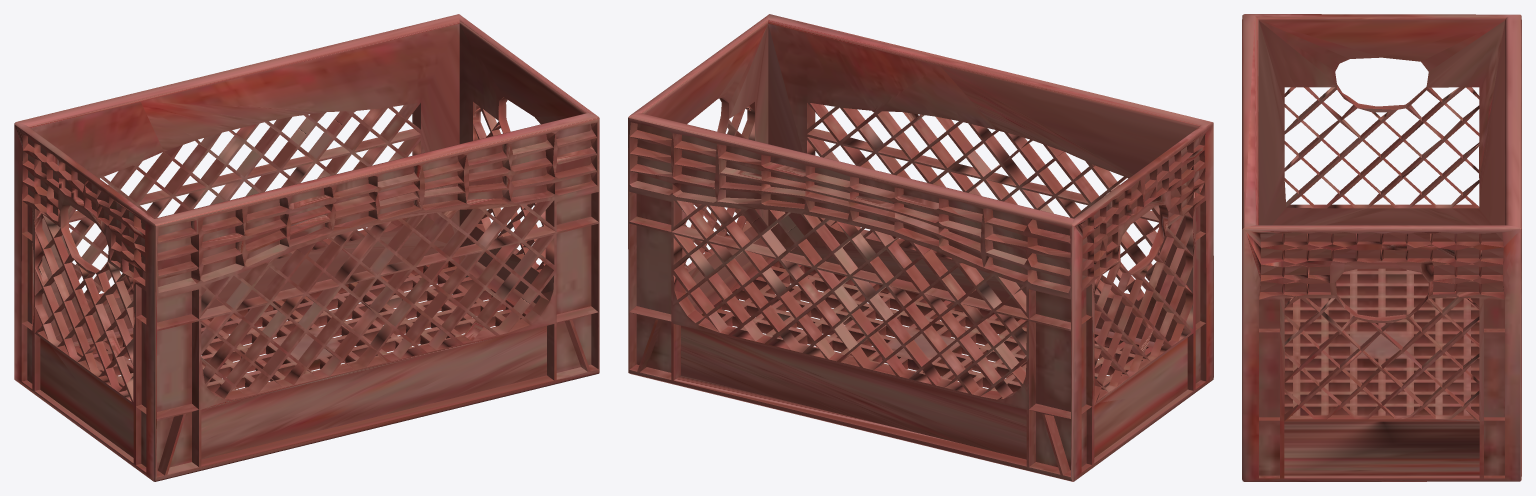
File: plastic-crate-03.glb
3 views of the same model, side by side, from view 1: azimuth 30°, elevation 25°; view 2: azimuth 150°, elevation 25°; view 3: azimuth 270°, elevation 25° (orthographic).
Parts seen in each view (by area): view 1: plastic_crate_03; view 2: plastic_crate_03; view 3: plastic_crate_03.
Boxes of the visible parts, x1=… form: plastic_crate_03: x1=14, y1=14, x2=599, y2=481; plastic_crate_03: x1=628, y1=14, x2=1213, y2=481; plastic_crate_03: x1=1242, y1=14, x2=1521, y2=481.
Size of the model in its own units: 0.4811 by 0.266 by 0.265.
1 material, 1 textured.
